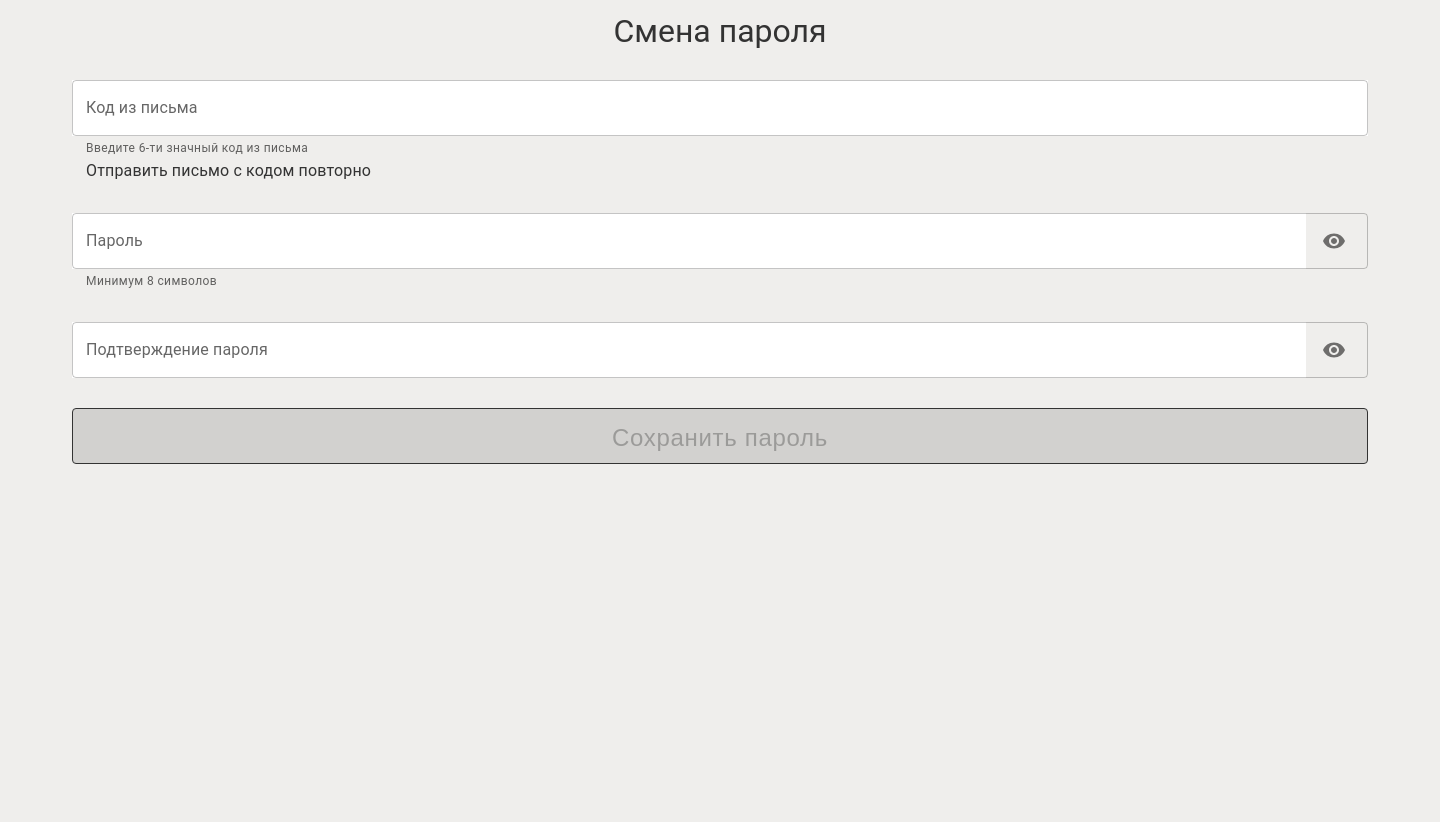
Scenario: PasswordPage › повторная отправка кода (reset): вызывает request-reset и включает кулдаун
Click the text "Отправить письмо с кодом повторно". click: (229, 171)
box: [86,161,371,180]
Wait 1000 ms
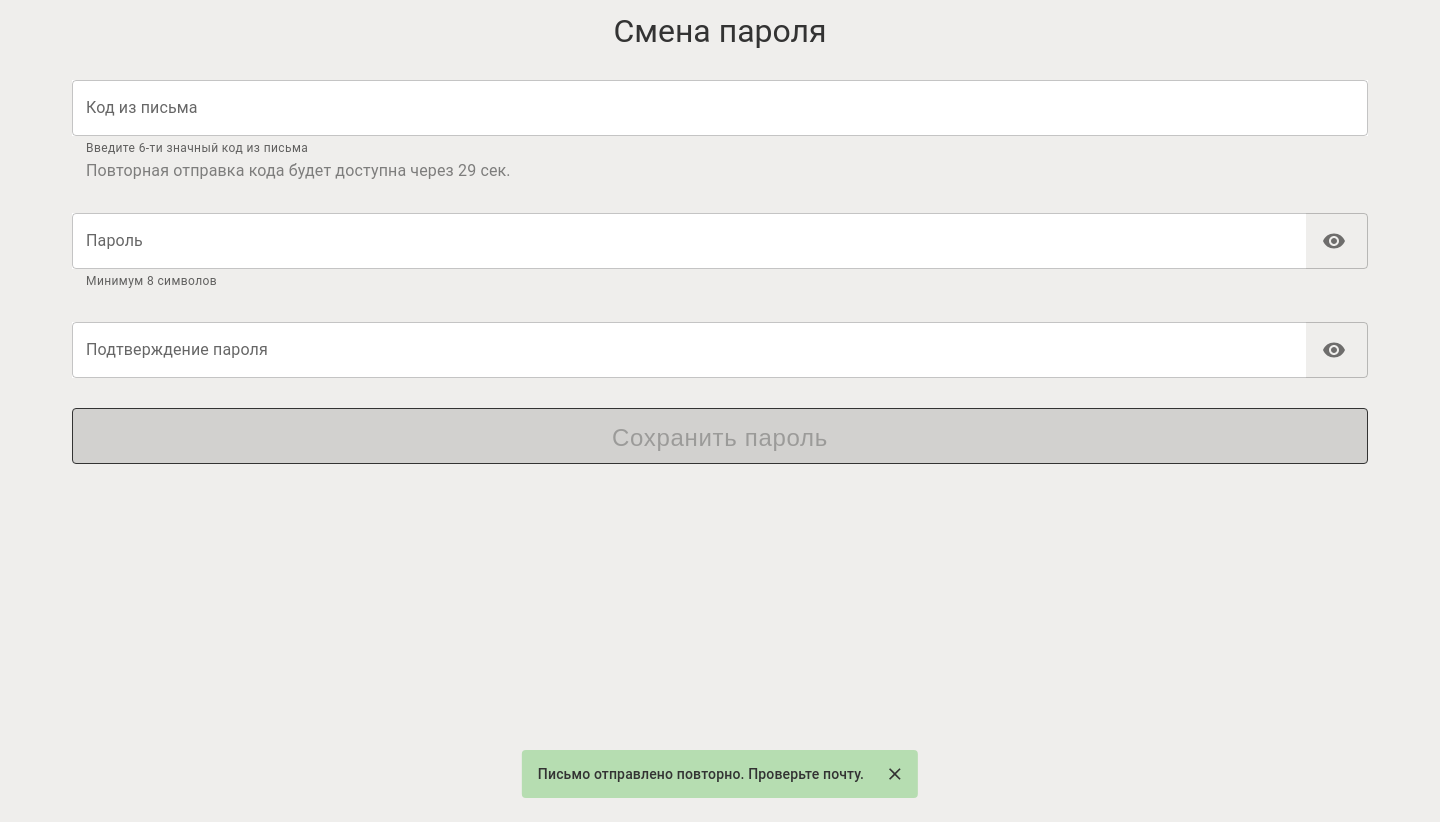
Expected: the text "Повторная отправка кода будет доступна через 29 сек." is shown, [86,161,511,180]
